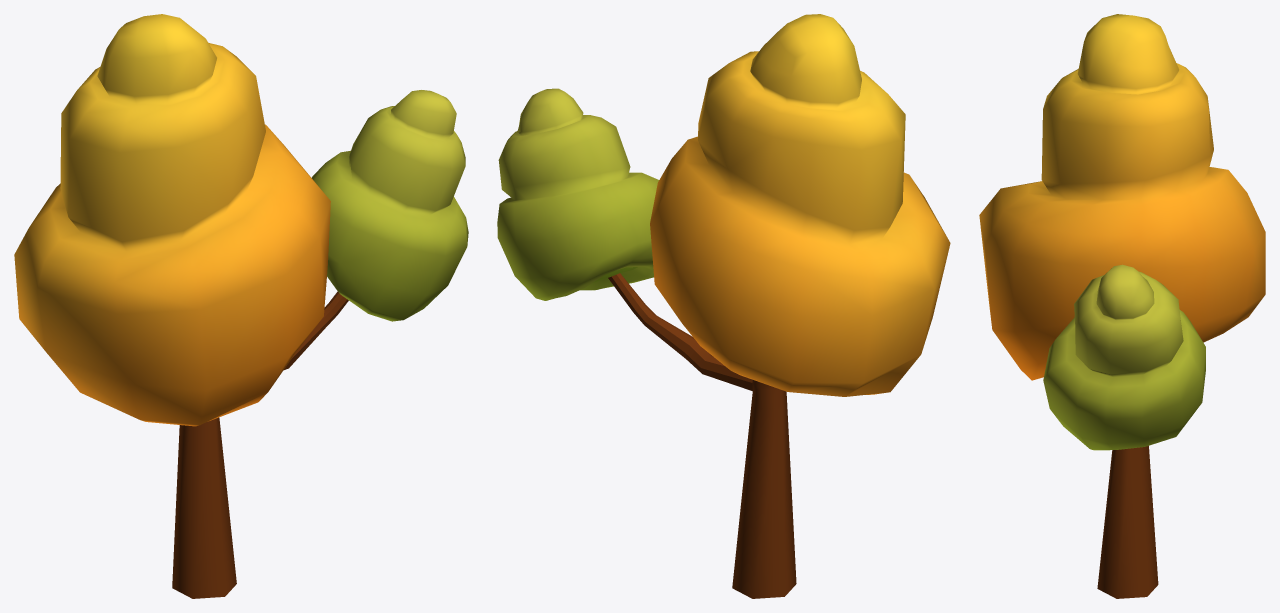
The model's file is SM_Tree_09.fbx.
The picture shows the model from 3 angles, left to right: view 1: azimuth 30°, elevation 25°; view 2: azimuth 150°, elevation 25°; view 3: azimuth 270°, elevation 25°; orthographic projection. The views are drawn at different scales.
Visible parts, largest first — view 1: SM_Tree_09; view 2: SM_Tree_09; view 3: SM_Tree_09.
Boxes of the visible parts, x1=… form: SM_Tree_09: x1=14, y1=14, x2=468, y2=598; SM_Tree_09: x1=497, y1=14, x2=950, y2=598; SM_Tree_09: x1=979, y1=14, x2=1265, y2=598.
Bounding box in the file's own units: 639 × 830 × 394.
